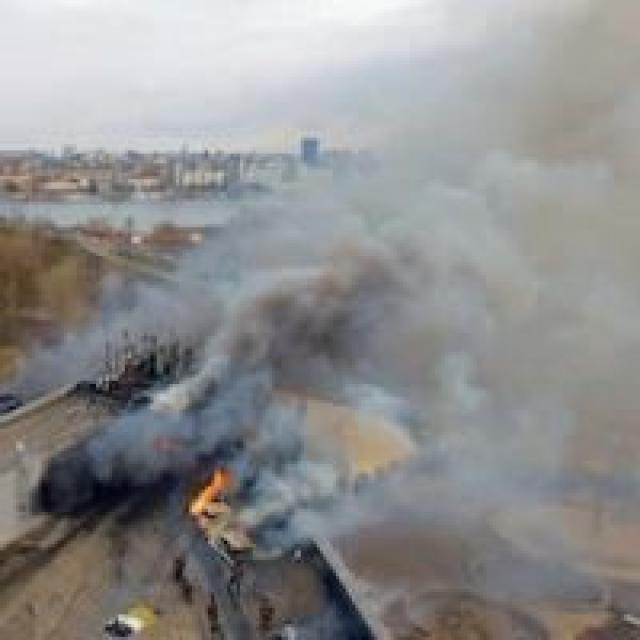Fire: (186, 463, 233, 511)
Smoke: (98, 26, 623, 586)
